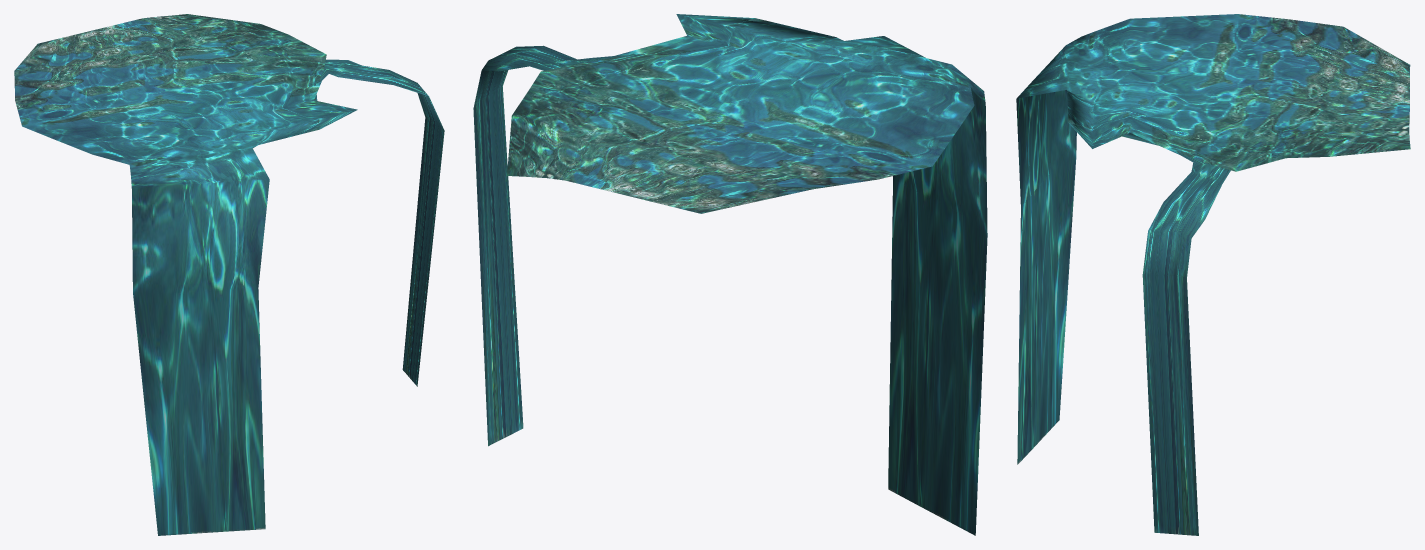
File: Mine_shanti01shui1.FBX
3 renders of one model, left to right at view 1: azimuth 30°, elevation 25°; view 2: azimuth 150°, elevation 25°; view 3: azimuth 270°, elevation 25°, orthographic. The views are drawn at different scales.
Parts seen in each view (by area): view 1: Plane003; view 2: Plane003; view 3: Plane003.
Boxes of the visible parts, x1,y1,x2,y2 form: Plane003: (14, 14, 444, 535); Plane003: (473, 14, 987, 535); Plane003: (1016, 14, 1410, 535).
Bounding box in the file's own units: 11653 × 10830 × 9955.
1 material, 1 textured.
